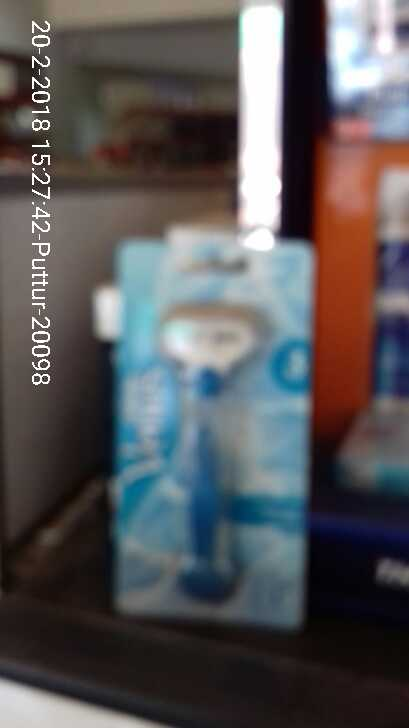reject: (109, 234, 311, 626)
